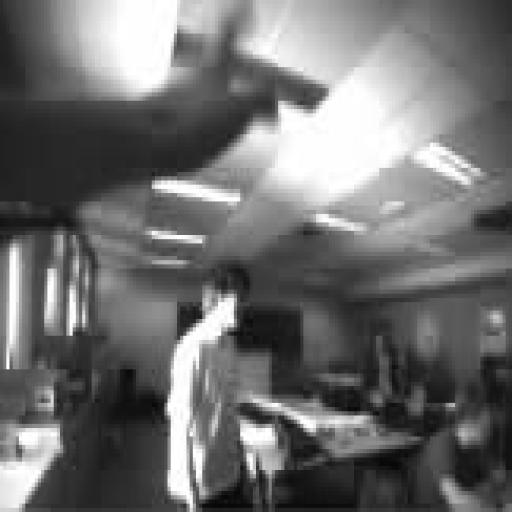human: (0, 5, 278, 222), (168, 265, 249, 511), (415, 382, 499, 511)
